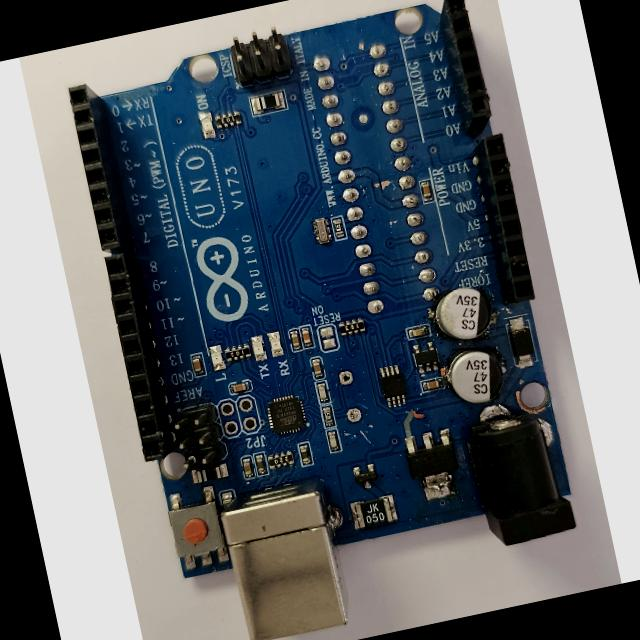missing_atmega: (306, 26, 454, 332)
missing_crystal_os: (326, 349, 377, 447)
